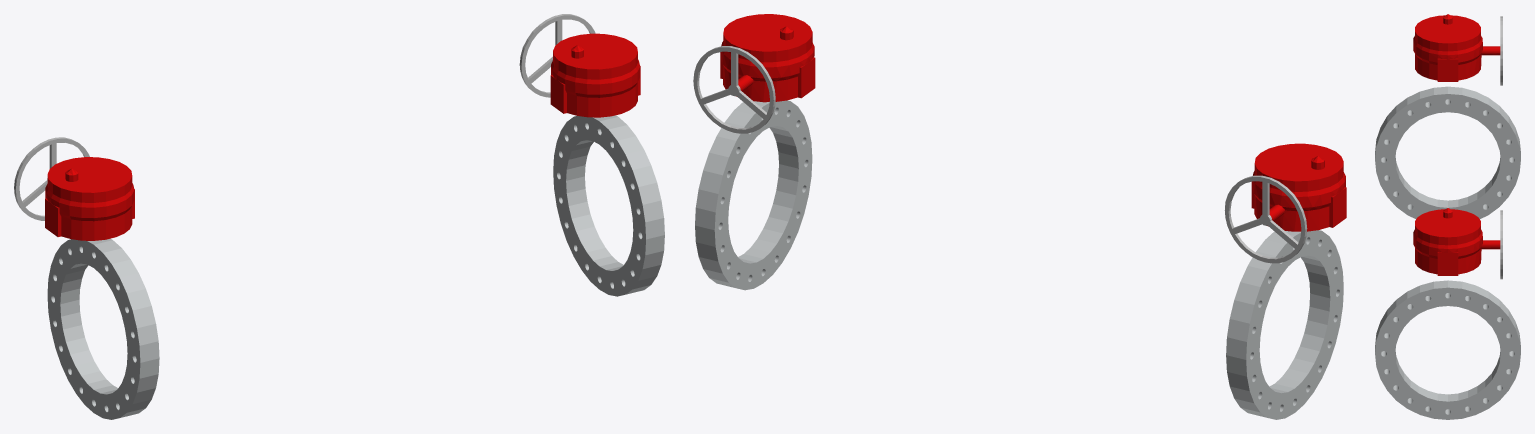
3 renders of one model, left to right at view 1: azimuth 30°, elevation 25°; view 2: azimuth 150°, elevation 25°; view 3: azimuth 270°, elevation 25°, orthographic. The views are drawn at different scales.
Size of the model in its own units: 2.33 by 0.9521 by 0.6397.
